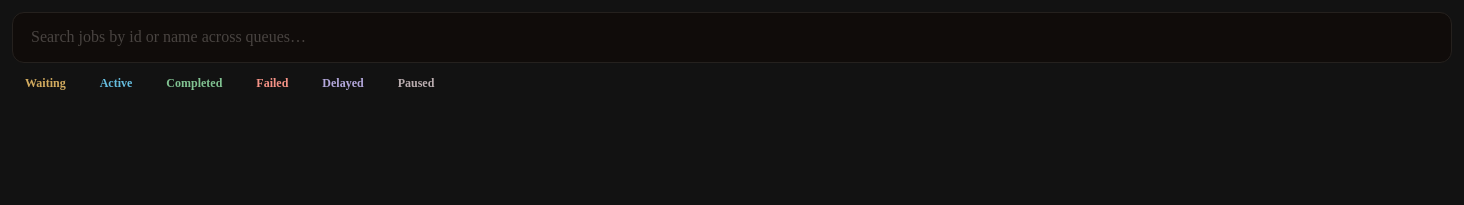
CommandPalette › deepens the search past the cap and appends the results
Step 1. Type "mail" into the search field labelled "Search jobs" → x=732, y=37, box [12,12,1452,63]
Wait 300 ms
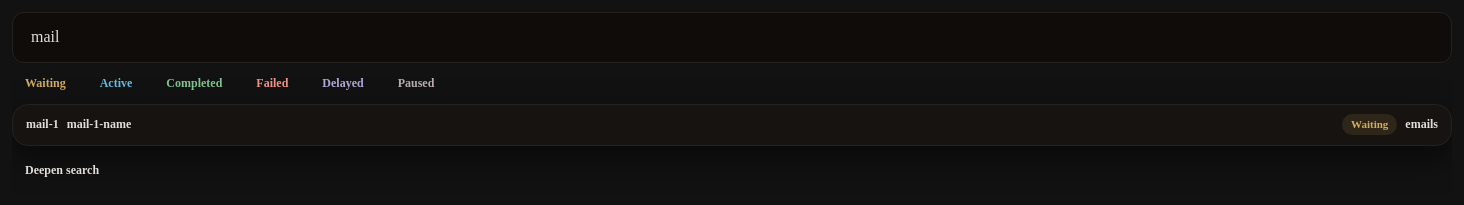
Step 2. Click the button "Deepen search" → x=62, y=171, box [12,154,112,188]
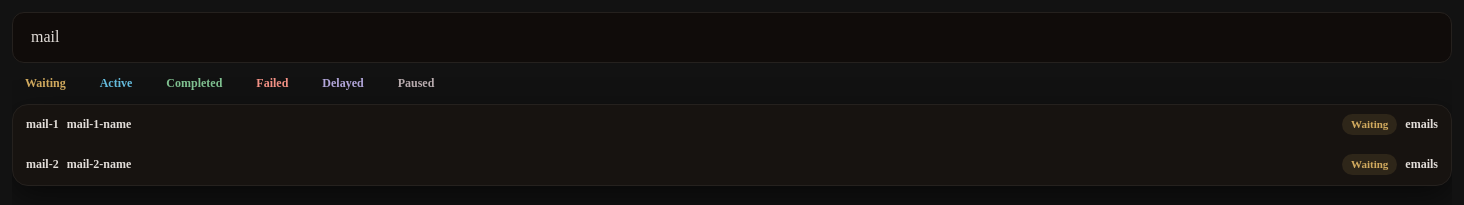
expect the text "mail-1-name" is shown: met, box [67,117,131,131]
expect the text "mail-2-name" is shown: met, box [67,157,131,171]
expect the button "Deepen search" is gone: met
